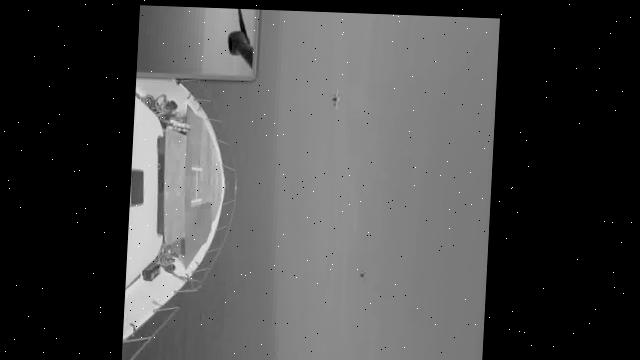drone: (325, 79, 350, 113), (356, 264, 377, 282)
